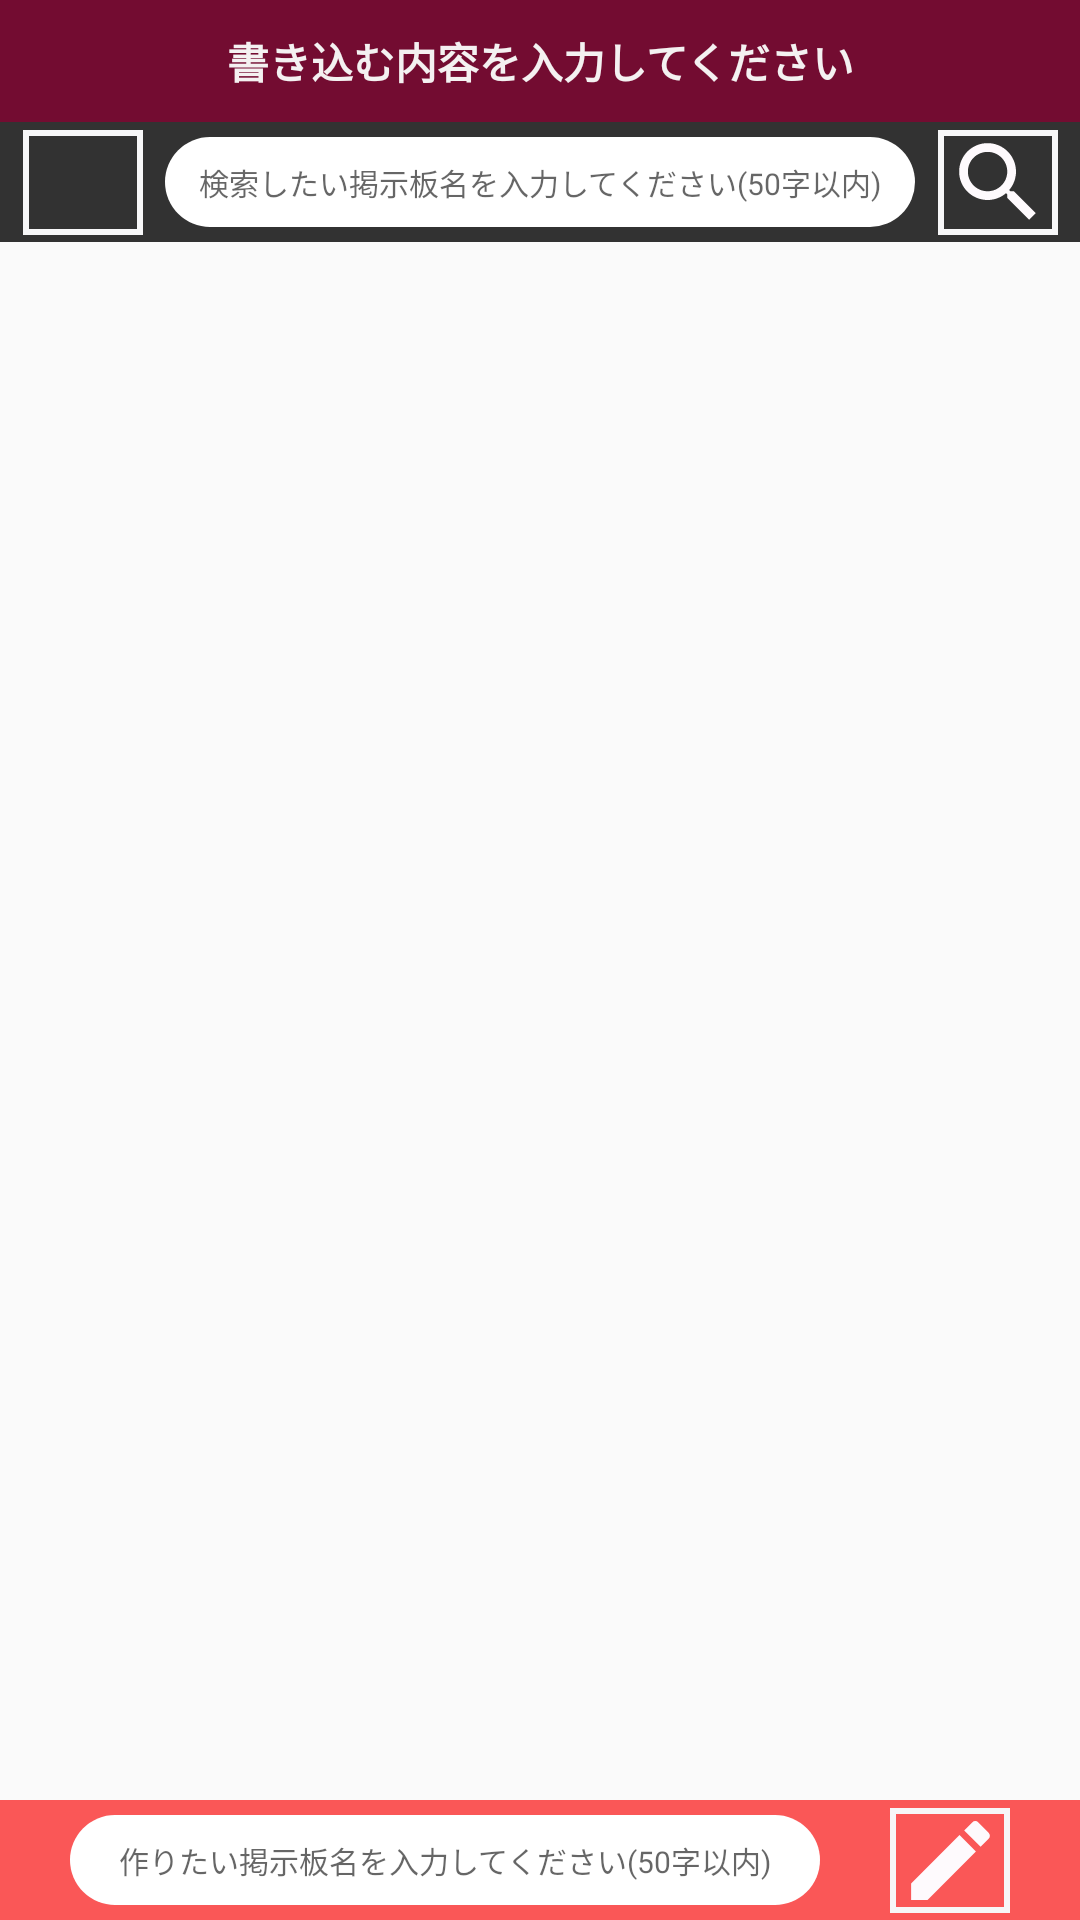

Icon bounding boxes for this 1080x1920 phone screenshot, format (x1, y1, x2, y2):
create: (890, 1808, 1010, 1913)
search: (938, 130, 1058, 235)
